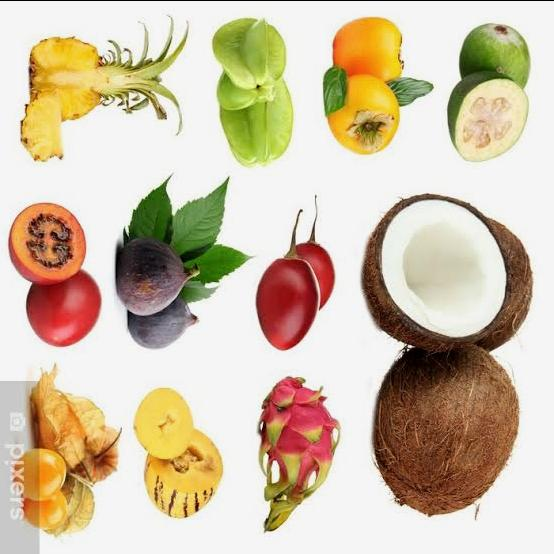thanh_long: (256, 375, 345, 533)
